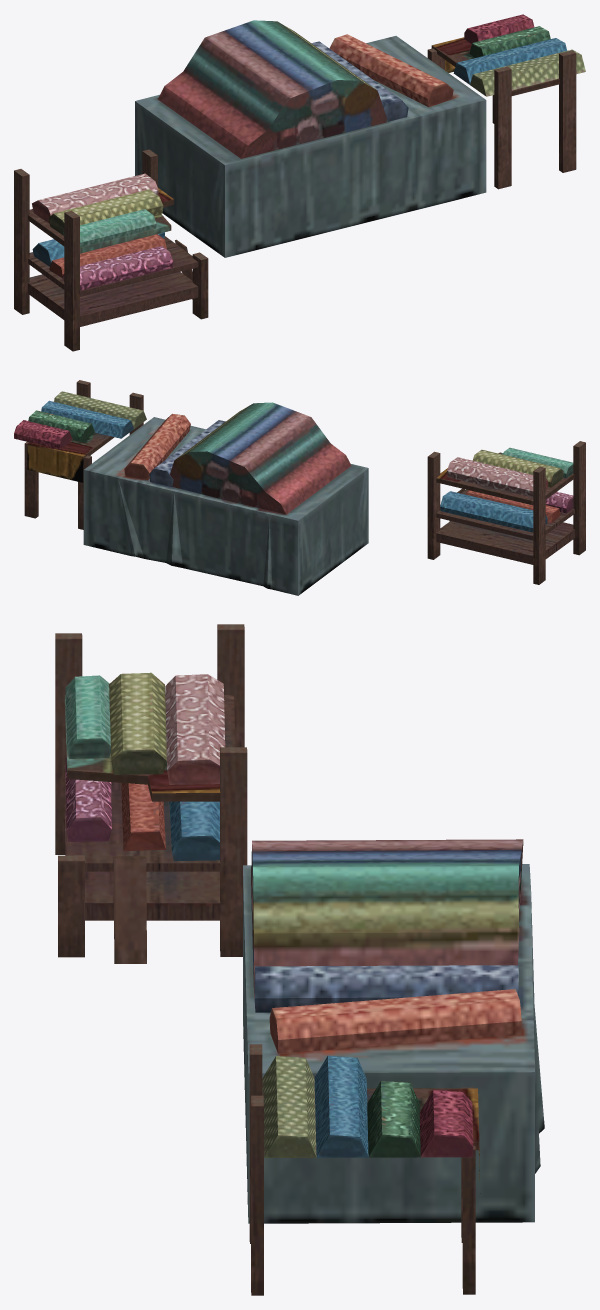
3 renders of one model, top to bottom at view 1: azimuth 30°, elevation 25°; view 2: azimuth 150°, elevation 25°; view 3: azimuth 270°, elevation 25°, orthographic. The views are drawn at different scales.
Parts seen in each view (by area): view 1: qingmo_obj_026 [10484183], qingmo_obj_027 [10484789]; view 2: qingmo_obj_026 [10484183], qingmo_obj_027 [10484789]; view 3: qingmo_obj_026 [10484183], qingmo_obj_027 [10484789].
Part boxes in pixels (x1,y1,x2,y2): qingmo_obj_026 [10484183]: (135,14,585,257); qingmo_obj_027 [10484789]: (14,149,208,351); qingmo_obj_026 [10484183]: (14,380,368,595); qingmo_obj_027 [10484789]: (427,441,585,584); qingmo_obj_026 [10484183]: (243,839,544,1295); qingmo_obj_027 [10484789]: (55,624,247,963).
Size of the model in its own units: 37.8 by 17.09 by 9.22.
1 material, 1 textured.
